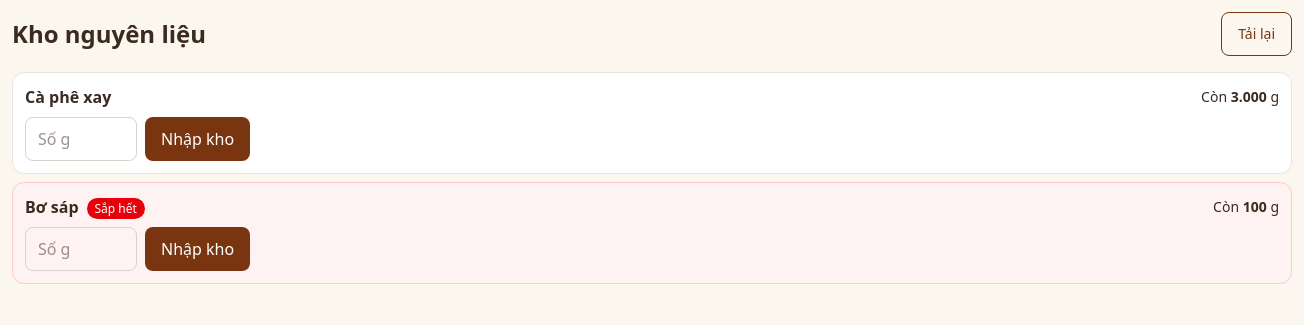
Test: Màn hình kho nguyên liệu (CT-63 – CT-66) › CT-65: nhập hợp lệ gọi POST restock, cập nhật tồn kho, bỏ nhãn Sắp hết và báo đã nhập
Type "2000" into the field named "Số lượng nhập Bơ sáp" at (81, 249), box 25,227 -> 137,271
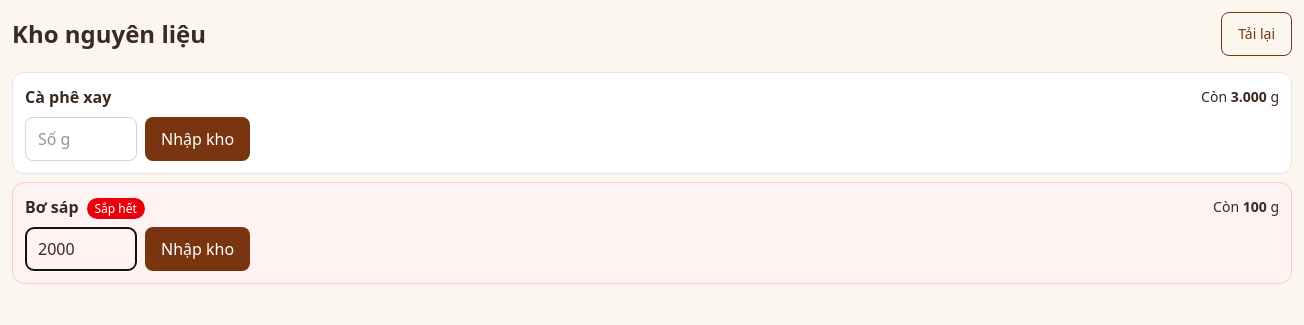
Click the button "Nhập kho" below "Bơ sáp" at (198, 249), box 145,227 -> 250,271
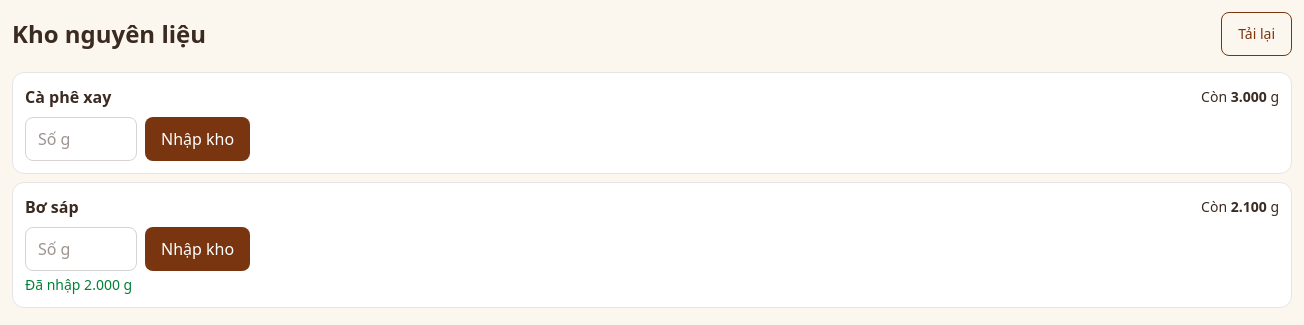
Check: the message reads "Đã nhập 2.000 g", box 25,275 -> 132,294
Check: the list item "Bơ sáp" shows "Còn 2.100 g", box 12,182 -> 1292,308
Check: the text "Sắp hết" is gone
